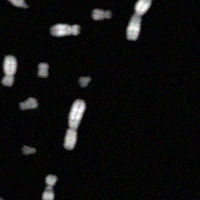chromosome: (63, 97, 86, 150), (126, 0, 154, 41), (0, 56, 16, 86), (50, 22, 79, 38), (40, 174, 57, 200), (90, 8, 111, 21), (4, 0, 29, 10), (20, 98, 37, 112), (37, 61, 48, 79), (19, 145, 36, 155), (78, 75, 91, 87), (0, 194, 8, 200)
